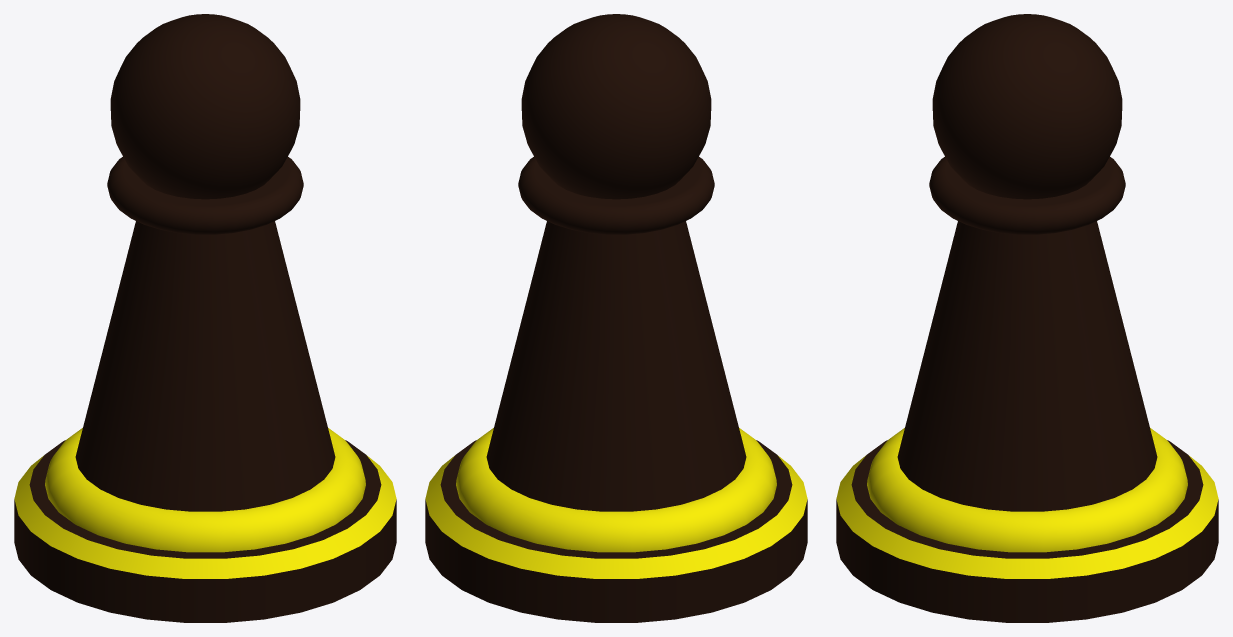
Rendered from Premium_B_Pawn.gltf.
The picture shows the model from 3 angles, left to right: view 1: azimuth 30°, elevation 25°; view 2: azimuth 150°, elevation 25°; view 3: azimuth 270°, elevation 25°; orthographic projection.
Parts seen in each view (by area): view 1: Pawn Black; view 2: Pawn Black; view 3: Pawn Black.
Part boxes in pixels (x1,y1,x2,y2): Pawn Black: [14, 14, 396, 622]; Pawn Black: [425, 14, 807, 622]; Pawn Black: [836, 14, 1218, 622].
Bounding box in the file's own units: 0.0284 × 0.0429 × 0.0286.
